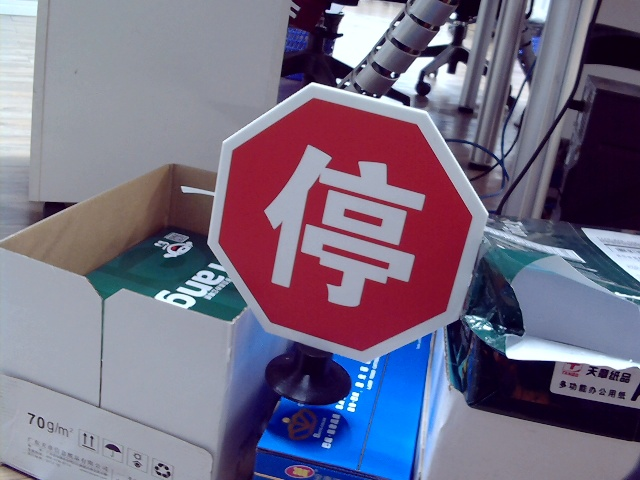stop: (270, 136, 427, 303)
